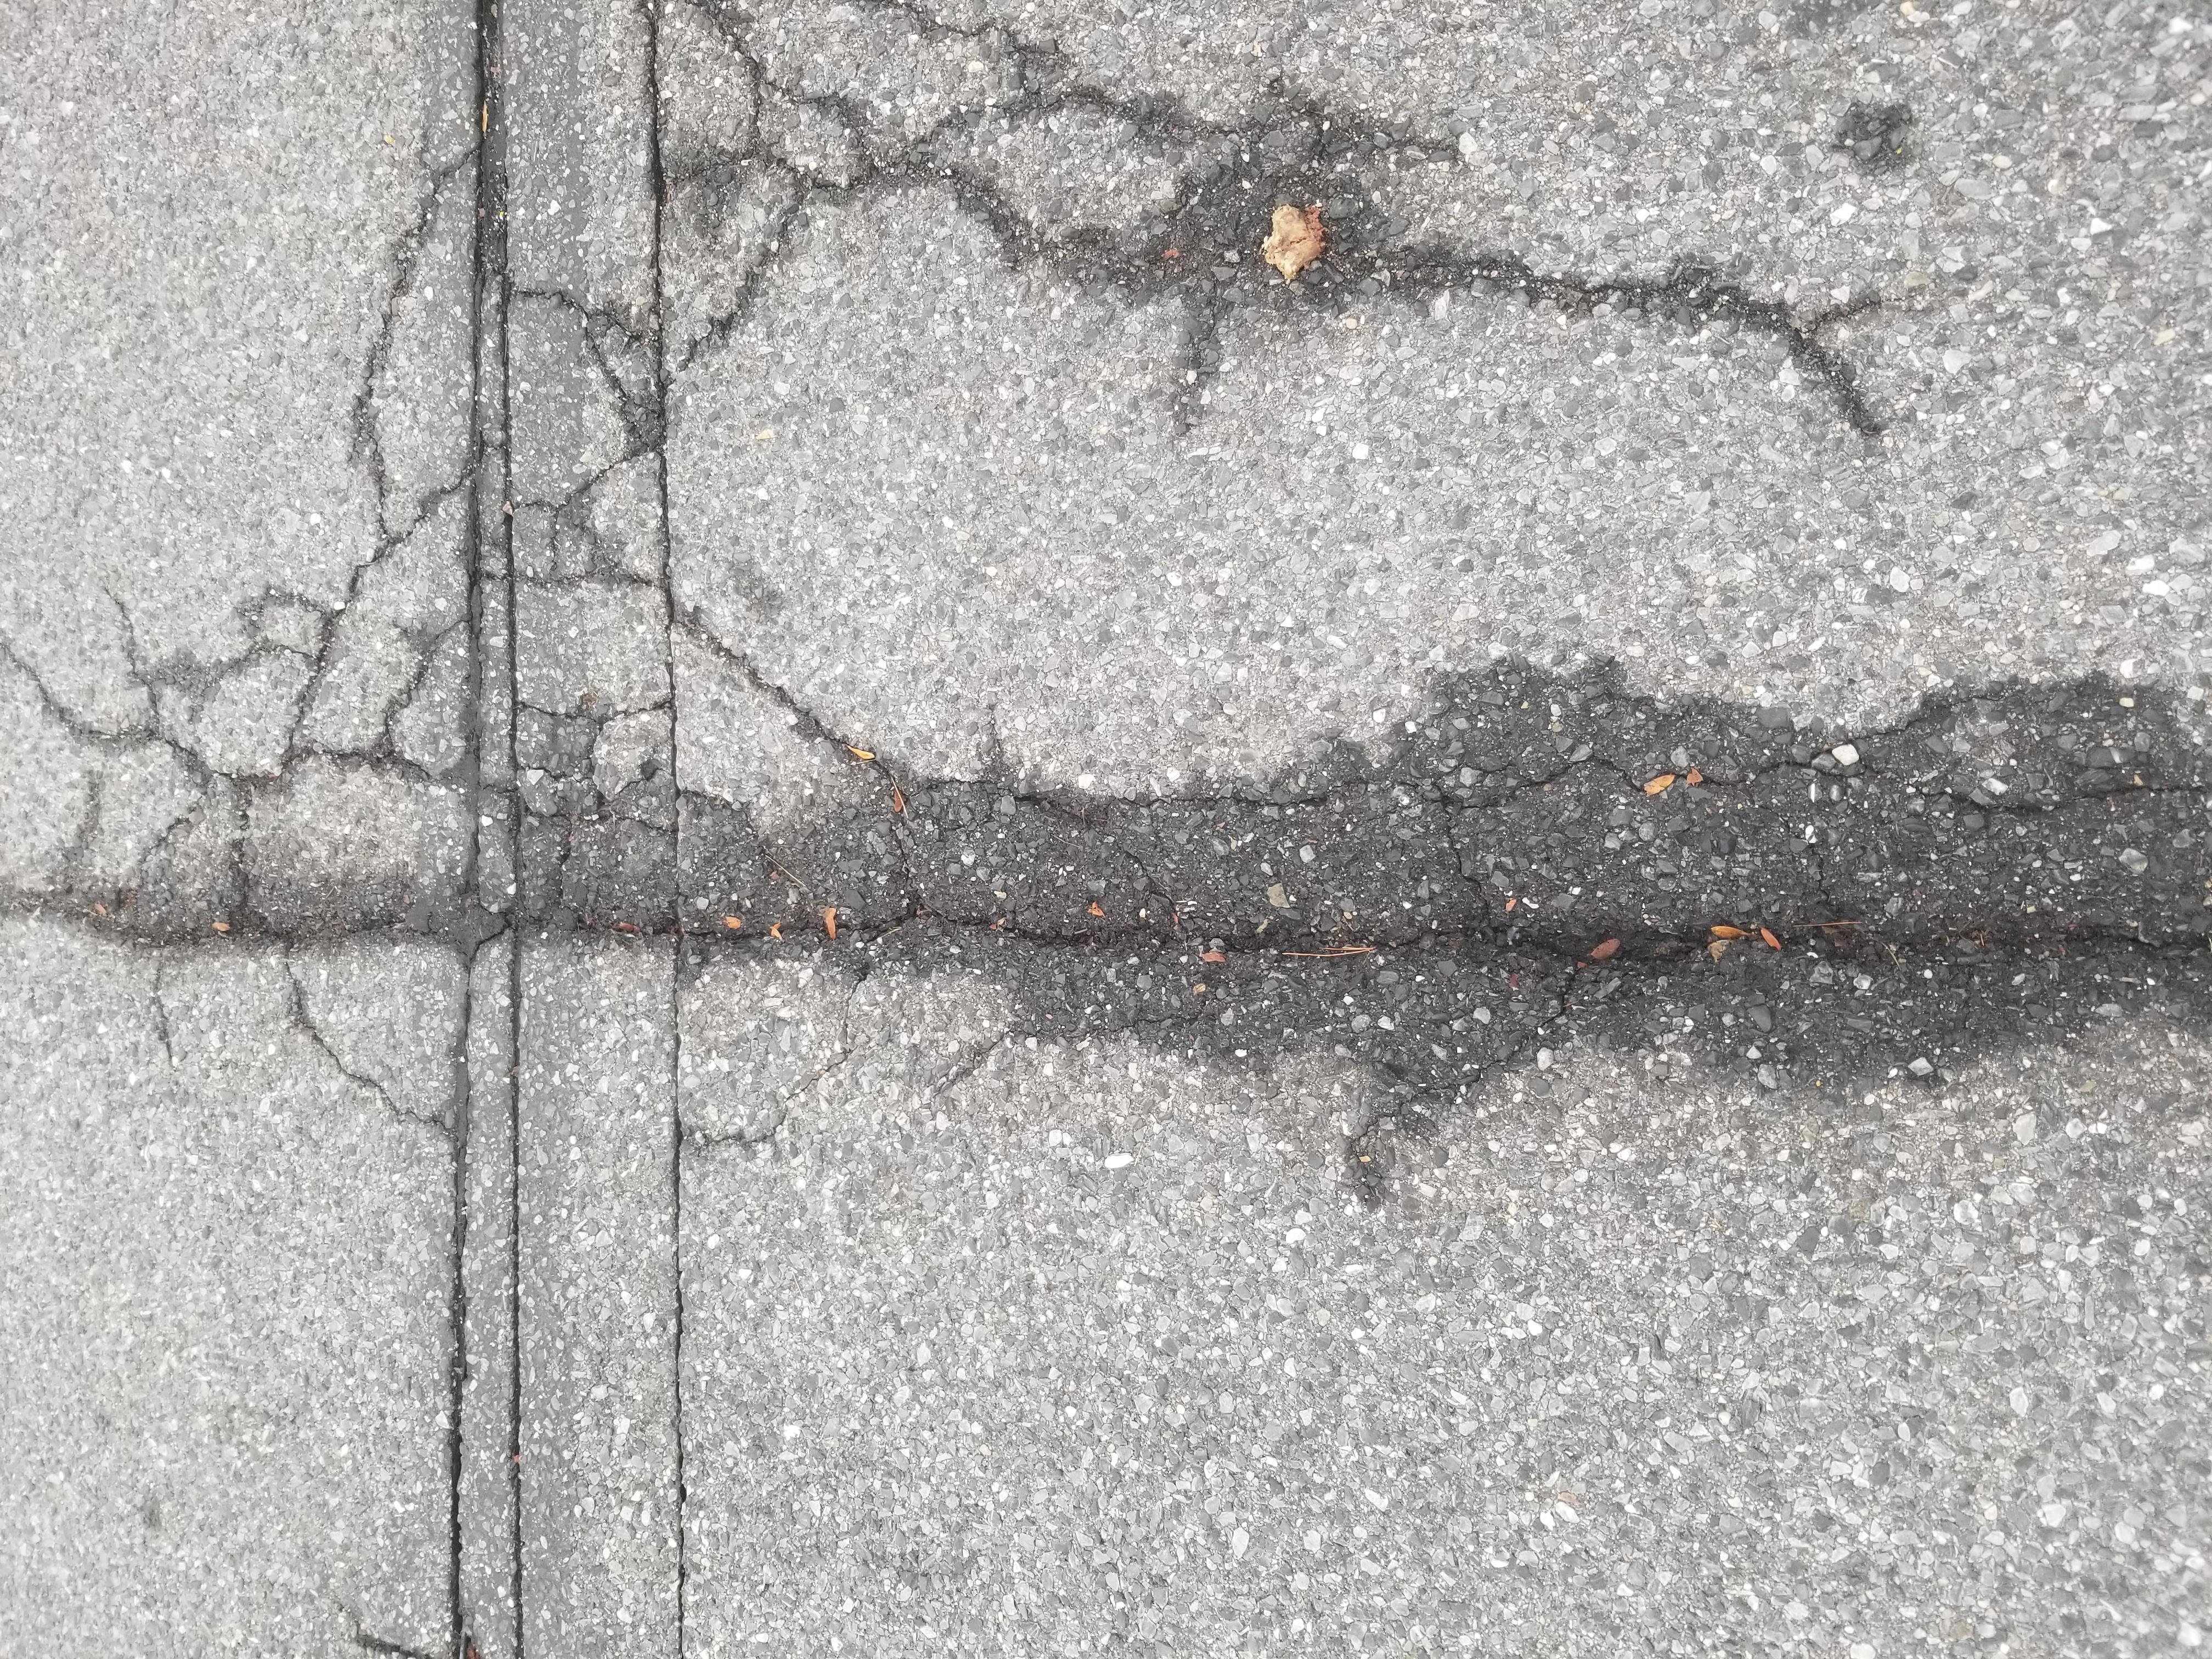alligator-crack: (1613, 471, 2189, 1432), (1057, 78, 1705, 408)
crack: (777, 63, 1045, 1647), (68, 296, 770, 444)
